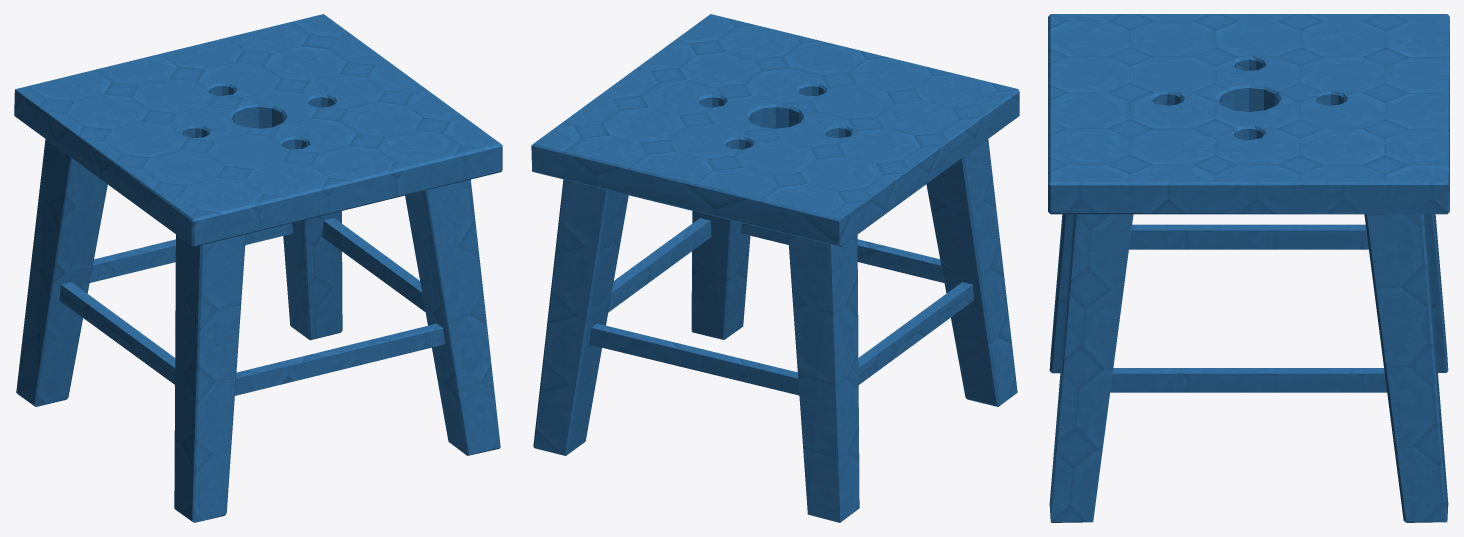
File: ghe_nhua_xanh.glb
The picture shows the model from 3 angles, left to right: view 1: azimuth 30°, elevation 25°; view 2: azimuth 150°, elevation 25°; view 3: azimuth 270°, elevation 25°; orthographic projection. The views are drawn at different scales.
Parts seen in each view (by area): view 1: stool; view 2: stool; view 3: stool.
Part boxes in pixels (<box>): stool: <box>14,14,502,522</box>; stool: <box>531,14,1019,522</box>; stool: <box>1048,14,1449,522</box>.
Bounding box in the file's own units: 0.32 × 0.3 × 0.32.
Materials: 1 (1 with a texture image).
